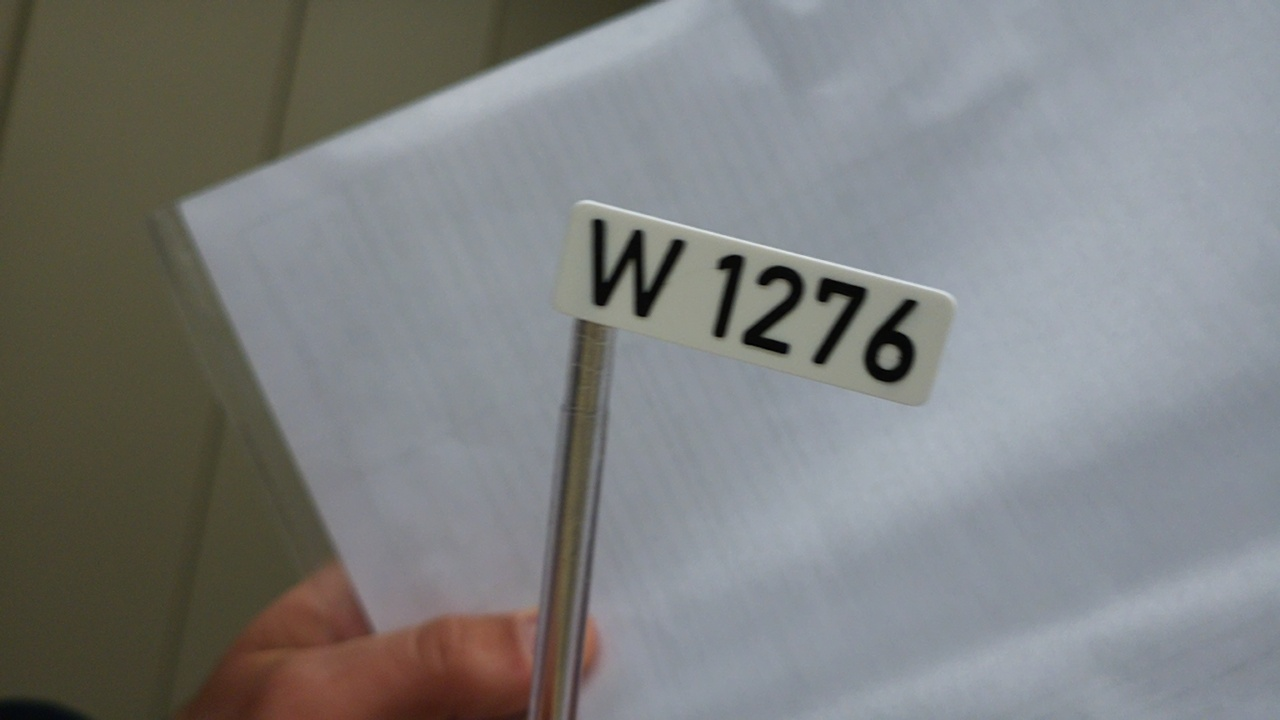license_plate: (552, 196, 959, 411)
